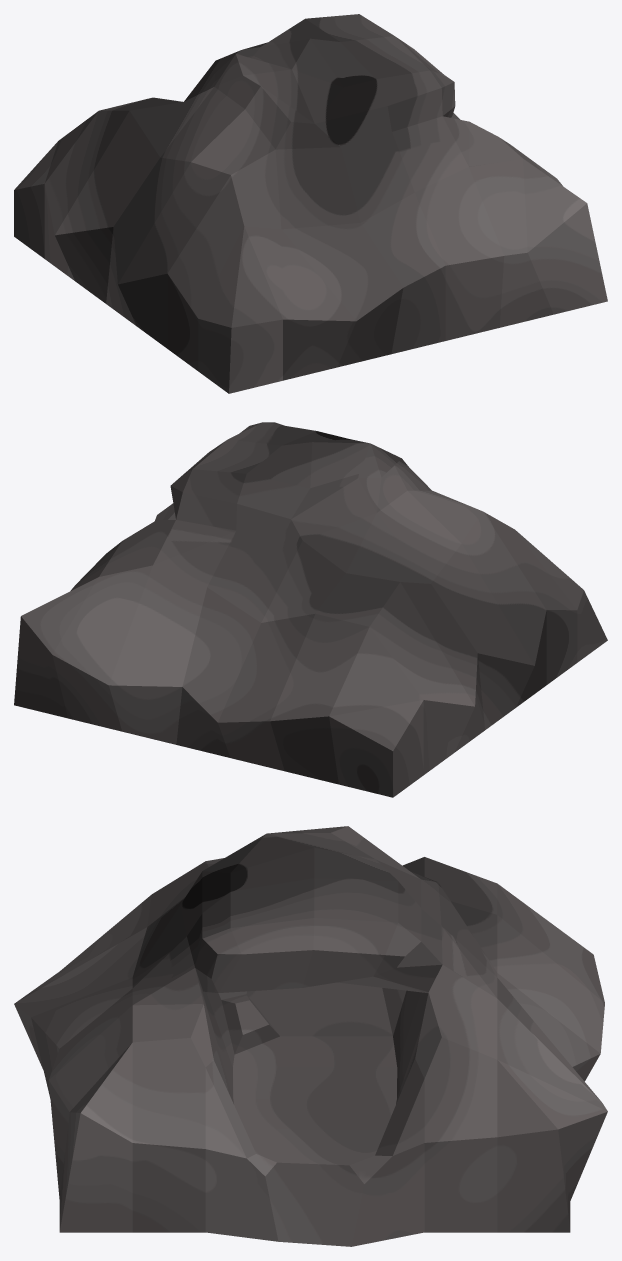
Rendered from Magara.fbx.
The picture shows the model from 3 angles, top to bottom: view 1: azimuth 30°, elevation 25°; view 2: azimuth 150°, elevation 25°; view 3: azimuth 270°, elevation 25°; orthographic projection. The views are drawn at different scales.
Parts seen in each view (by area): view 1: Cube; view 2: Cube; view 3: Cube.
Boxes of the visible parts, x1,y1,x2,y2 form: Cube: [14, 14, 607, 393]; Cube: [14, 422, 607, 797]; Cube: [14, 826, 607, 1246].
Bounding box in the file's own units: 5.48 × 2.85 × 5.59.
1 material, 1 textured.
